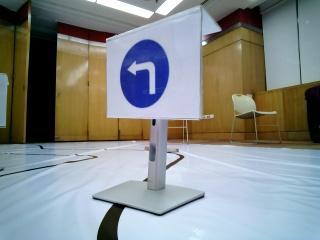left: (108, 42, 192, 108)
